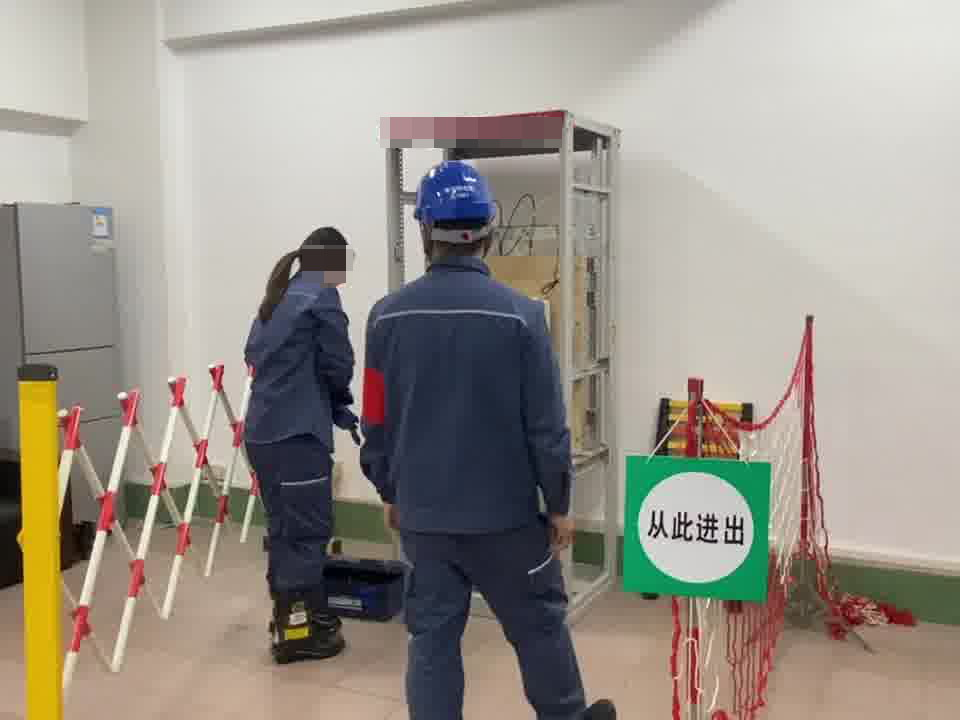badge: (358, 366, 390, 429)
downsuit: (396, 536, 594, 720), (246, 446, 336, 611)
halt: (414, 161, 501, 263)
hand: (552, 515, 580, 558), (375, 502, 403, 536)
intosign: (622, 452, 769, 603)
person: (366, 157, 627, 720), (234, 225, 359, 655)
shoe: (258, 603, 355, 668)
unhalt: (300, 227, 355, 287)
upsuit: (372, 273, 564, 524), (245, 281, 346, 439)
